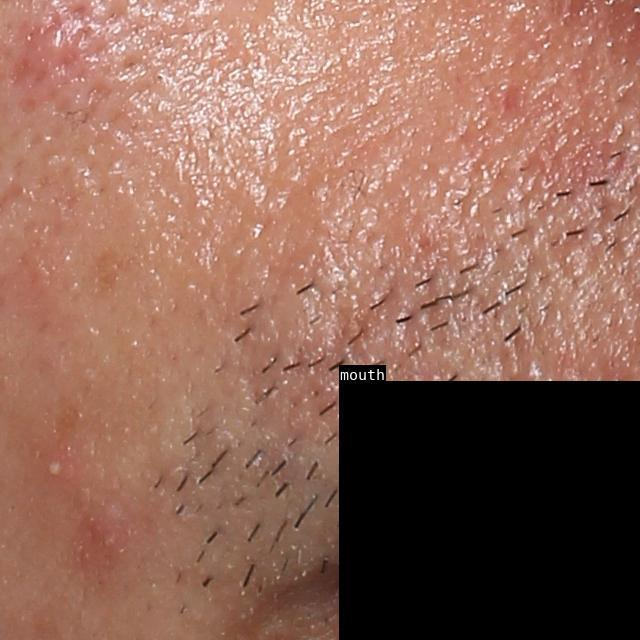papule: (16, 17, 91, 86), (83, 512, 130, 559)
pustule: (42, 455, 71, 484)
